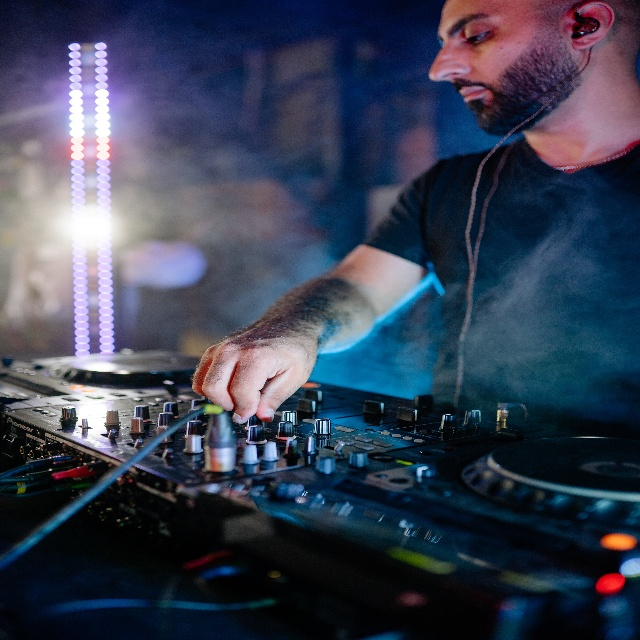Sin_guantes: (192, 302, 318, 424)
